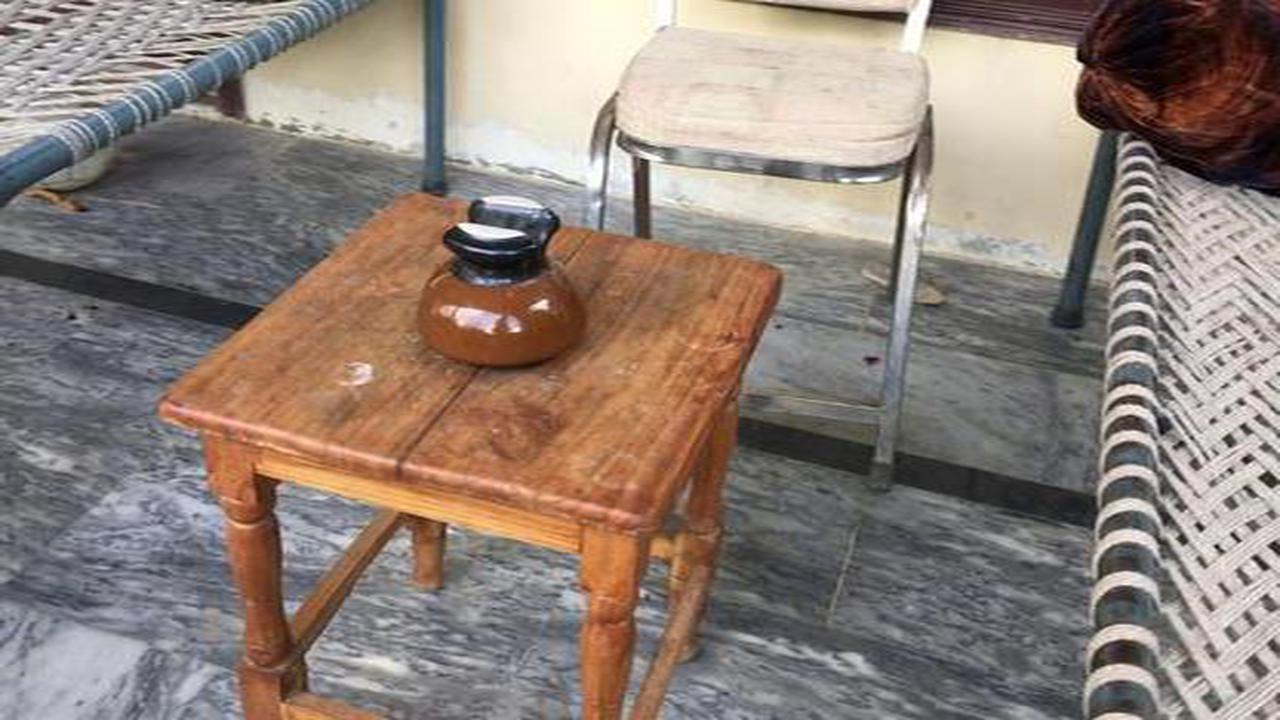insulator_pin: (397, 184, 604, 374)
